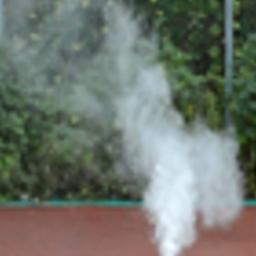smoke: (7, 0, 244, 256)
